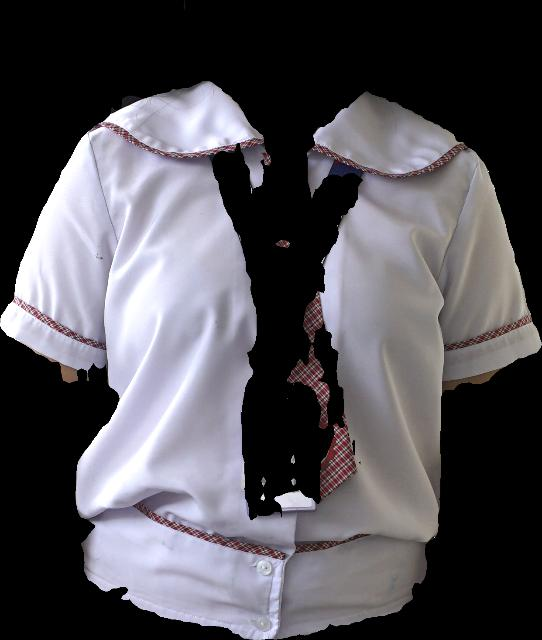pologirl: (0, 81, 541, 639)
